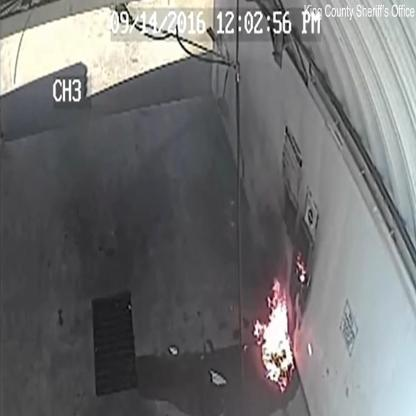fire: (254, 278, 294, 393)
